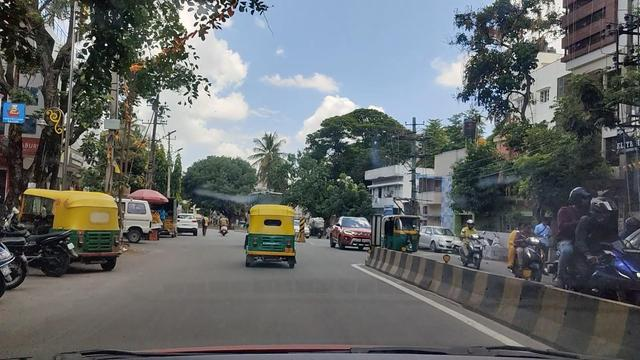LMV: (249, 203, 290, 272)
